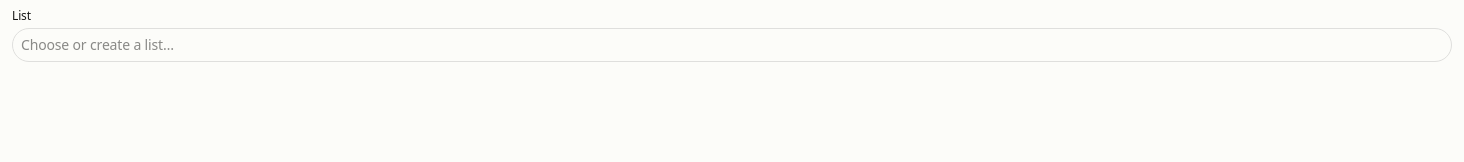
Test case: AddToList result handling › prompts on a name-proximity conflict and retries with the existing place
In the dropdown with test id "add-list-choice": (732, 45) [12, 28, 1452, 62], type "Lisbon"
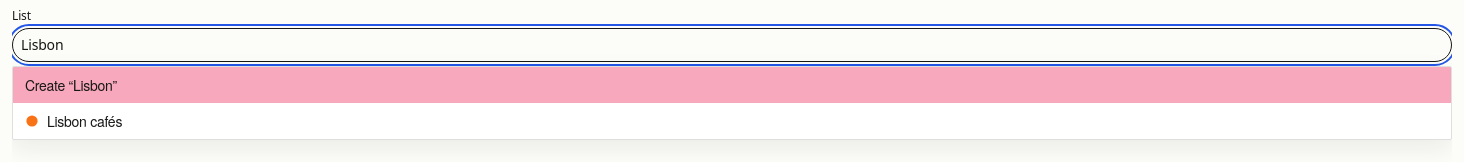
Click the option with test id "add-option-list-1": (85, 121) [13, 103, 1451, 139]
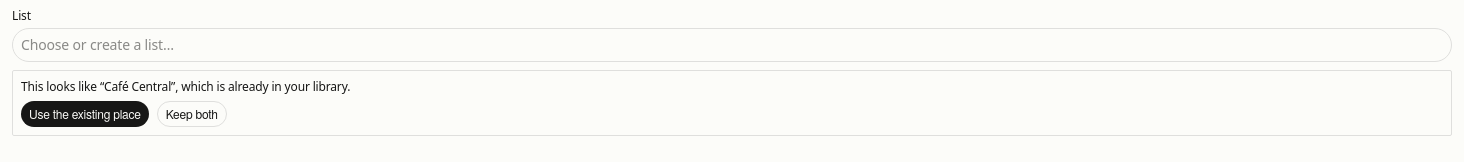
expect the element with test id "name-proximity-conflict" shows "Café Central": met, box [104, 78, 171, 95]
Click the button with test id "add-use-existing": (85, 114) [21, 101, 149, 127]
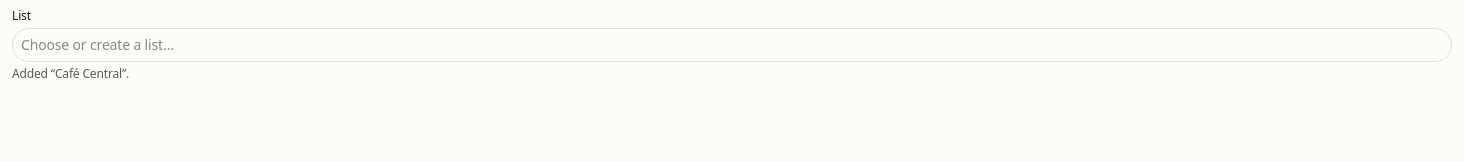
expect the element with test id "name-proximity-conflict" is gone: met
